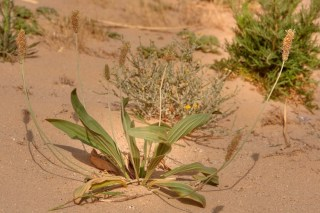buckhorn plantain: (11, 10, 297, 200)
